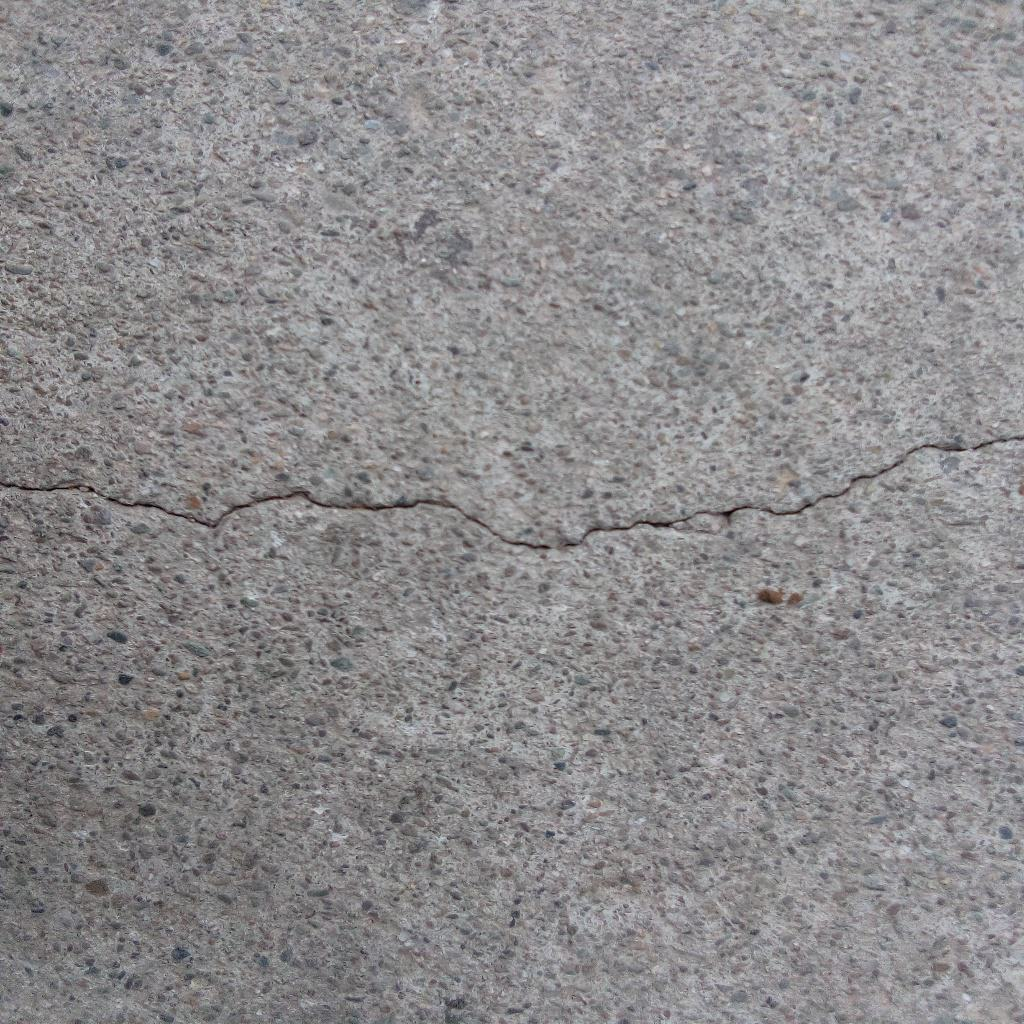Crack: (1, 433, 1024, 552)
